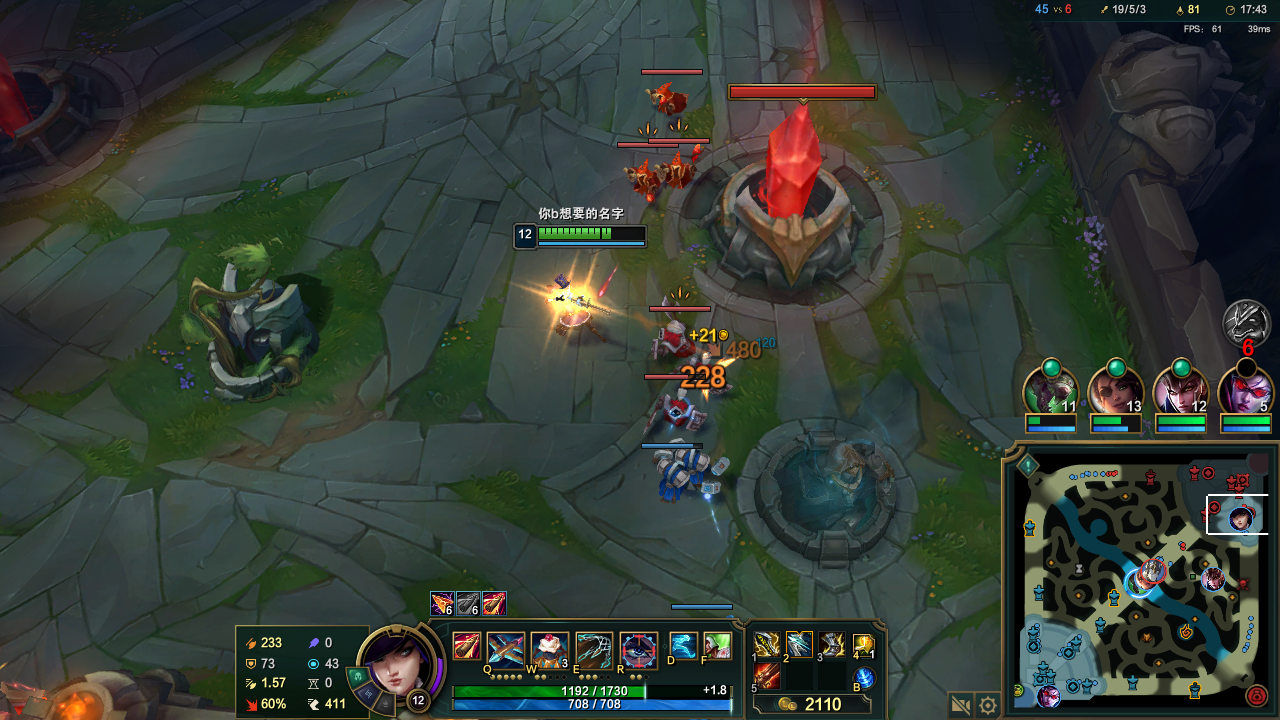DFSJ: (719, 81, 879, 287)
DFXB: (653, 321, 692, 366), (629, 160, 664, 199), (651, 87, 691, 117), (659, 398, 696, 428), (664, 157, 695, 189)
KF: (785, 631, 813, 652)
WFXB: (675, 446, 721, 479), (653, 459, 689, 497)
